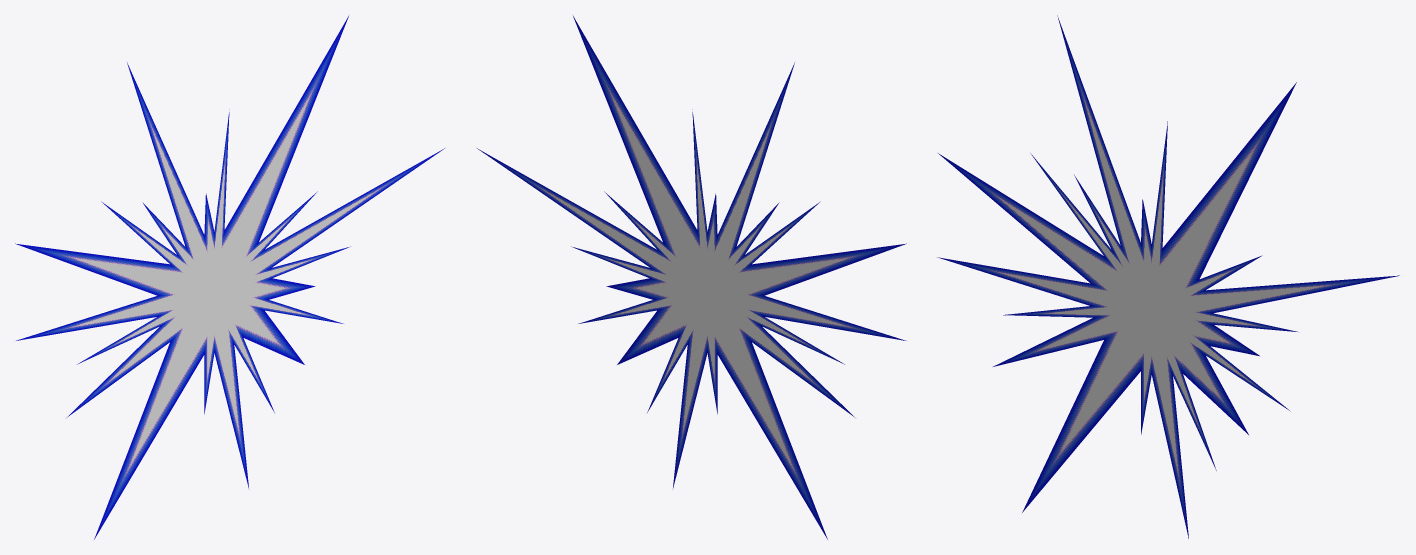
The model's file is EffCommonHitElec.obj.
The picture shows the model from 3 angles, left to right: view 1: azimuth 30°, elevation 25°; view 2: azimuth 150°, elevation 25°; view 3: azimuth 330°, elevation 25°; orthographic projection. The views are drawn at different scales.
Visible parts, largest first — view 1: polygon0; view 2: polygon0; view 3: polygon0.
Boxes of the visible parts, x1,y1,x2,y2 form: polygon0: [15, 16, 444, 539]; polygon0: [477, 16, 906, 539]; polygon0: [937, 15, 1399, 538].
Size of the model in its own units: 33.67 by 35.12 by 1.1e-05.
Materials: 1 (1 with a texture image).
